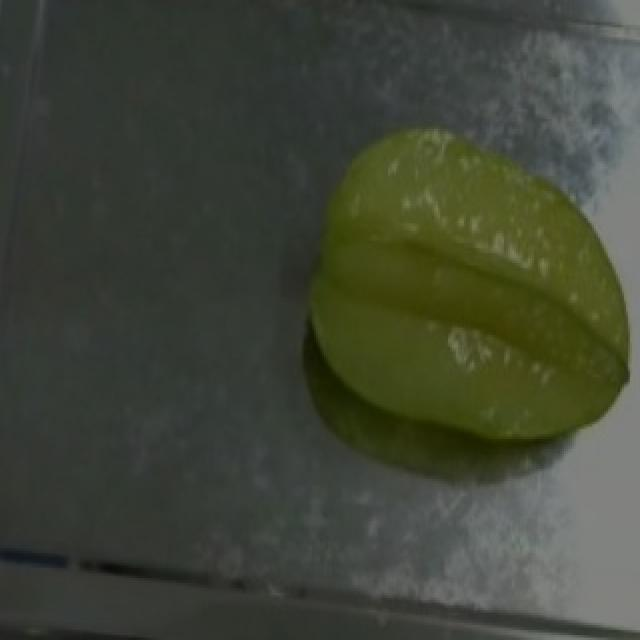fruit: (292, 109, 640, 486)
